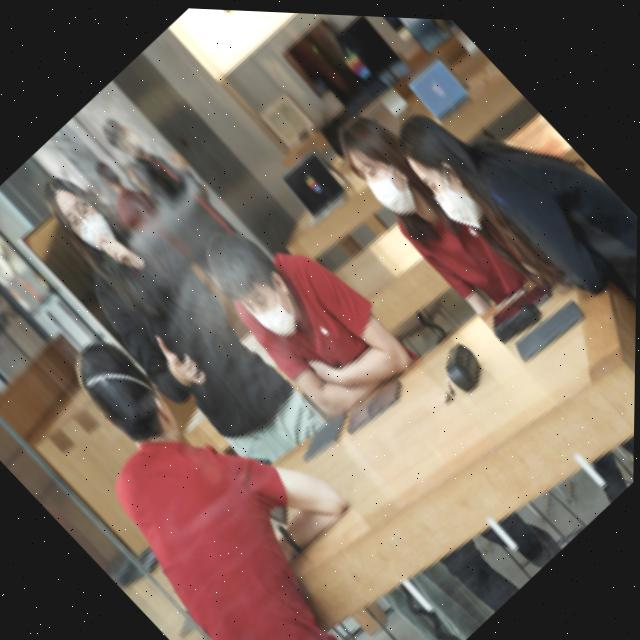Mask: (234, 259, 315, 342), (421, 154, 500, 235), (354, 146, 430, 224), (56, 192, 126, 263)
